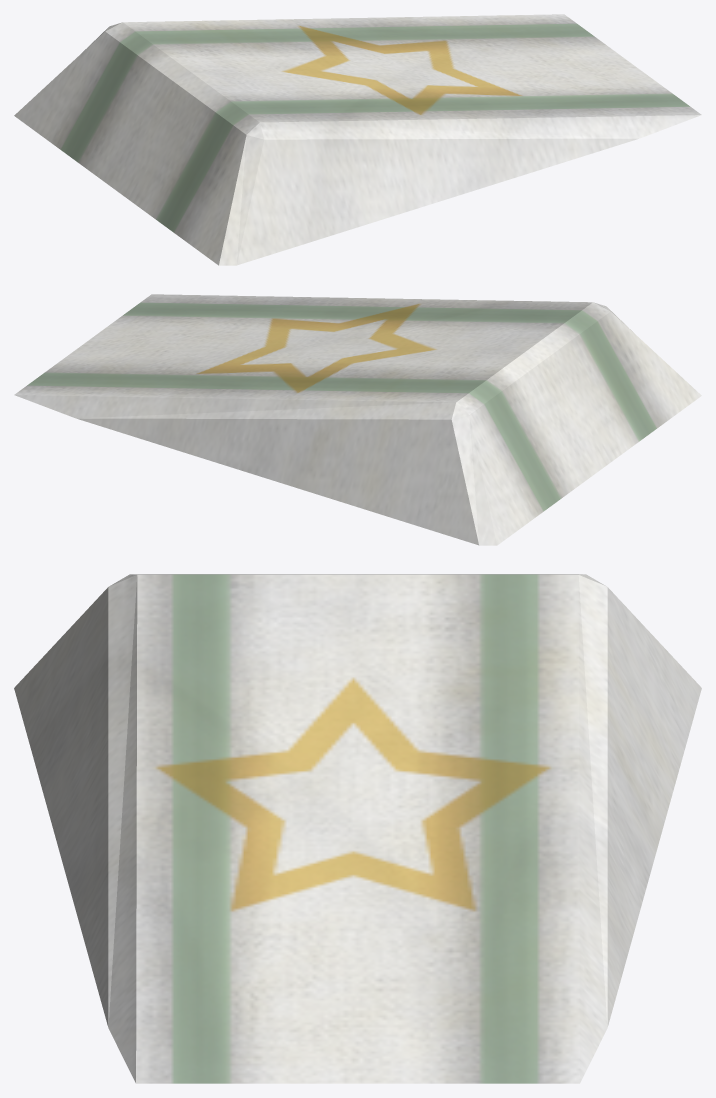
File: small_jump1.glb
3 views of the same model, one above another, from view 1: azimuth 30°, elevation 25°; view 2: azimuth 150°, elevation 25°; view 3: azimuth 270°, elevation 25° (orthographic). The views are drawn at different scales.
Parts seen in each view (by area): view 1: obj0; view 2: obj0; view 3: obj0.
Part boxes in pixels (left/top/right/bottom): obj0: left=14, top=14, right=701, bottom=265; obj0: left=14, top=294, right=701, bottom=545; obj0: left=14, top=574, right=701, bottom=1083.
Size of what is drawn, in the model's own units: 7.98 by 1.48 by 5.71.
1 material, 1 textured.
